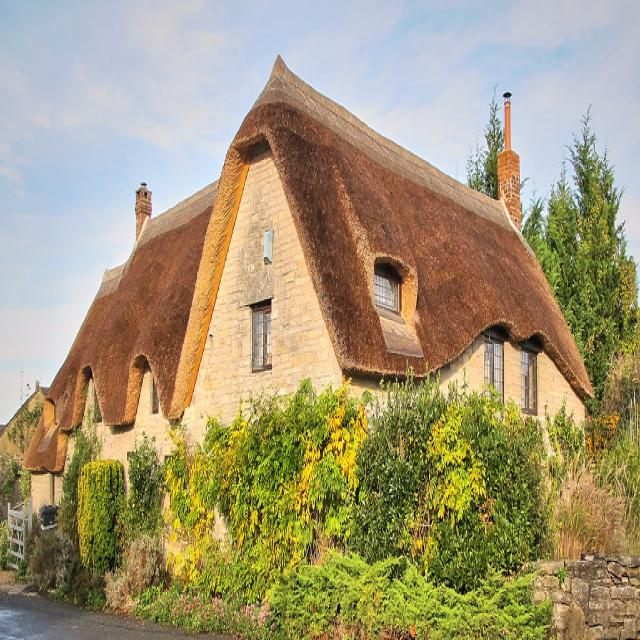Normal_building: (26, 46, 592, 594)
